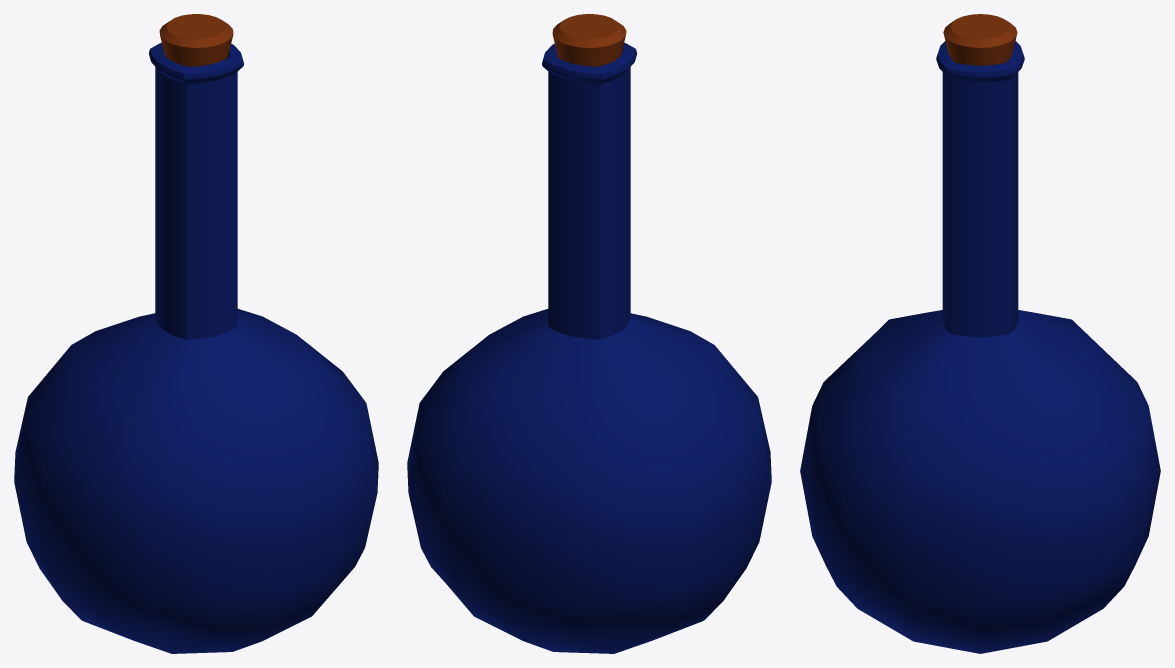
The model's file is MESH_PoisonPotion.fbx.
3 views of the same model, side by side, from view 1: azimuth 30°, elevation 25°; view 2: azimuth 150°, elevation 25°; view 3: azimuth 270°, elevation 25° (orthographic).
Visible parts, largest first — view 1: MESH_PoisonPotion; view 2: MESH_PoisonPotion; view 3: MESH_PoisonPotion.
Part boxes in pixels (x1=…): MESH_PoisonPotion: x1=14, y1=14, x2=378, y2=653; MESH_PoisonPotion: x1=407, y1=14, x2=771, y2=653; MESH_PoisonPotion: x1=800, y1=14, x2=1160, y2=653.
Size of the model in its own units: 0.1024 by 0.1904 by 0.1024.
